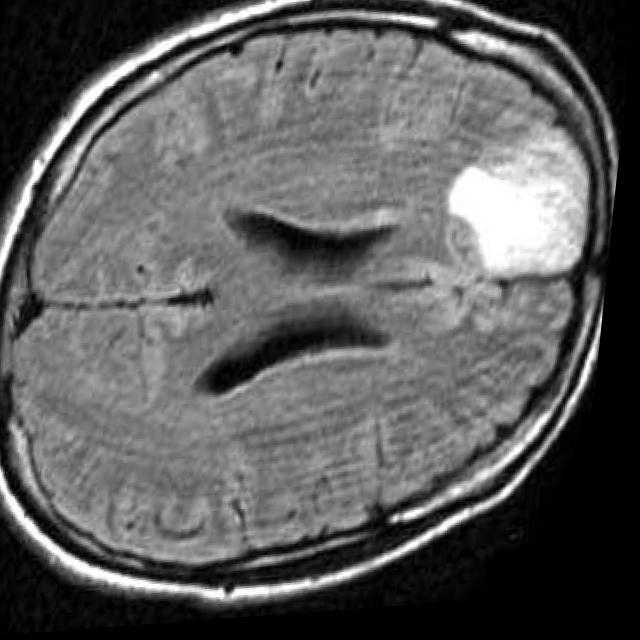Tumor: (452, 137, 594, 288)
